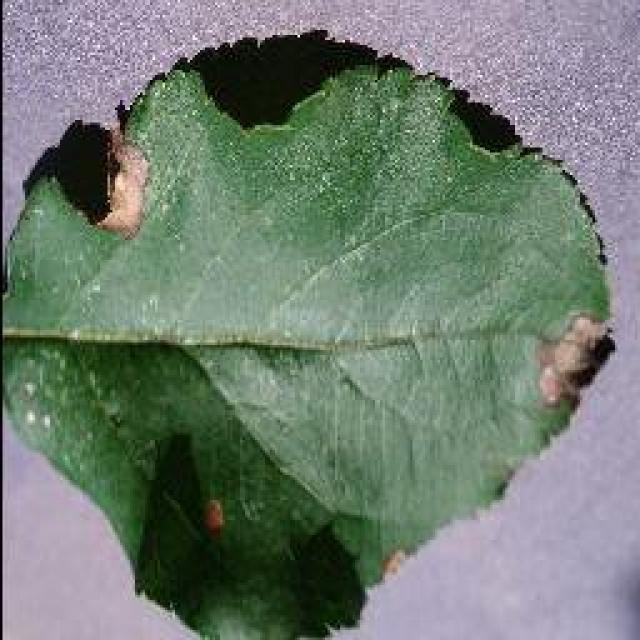Black_rot: (0, 27, 612, 637)
